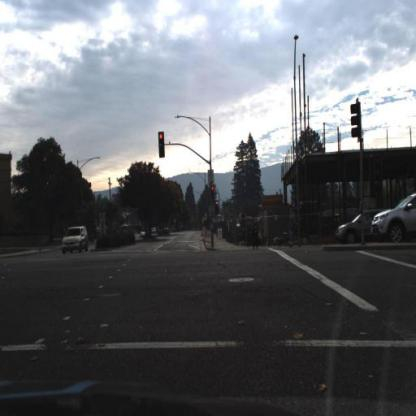car: (369, 184, 416, 248), (335, 208, 386, 248), (335, 206, 384, 246), (60, 225, 92, 256), (62, 226, 89, 254)
pedestrian: (289, 217, 295, 246), (254, 221, 259, 249)
trafficLight-Red: (159, 133, 165, 159), (212, 185, 217, 202)
